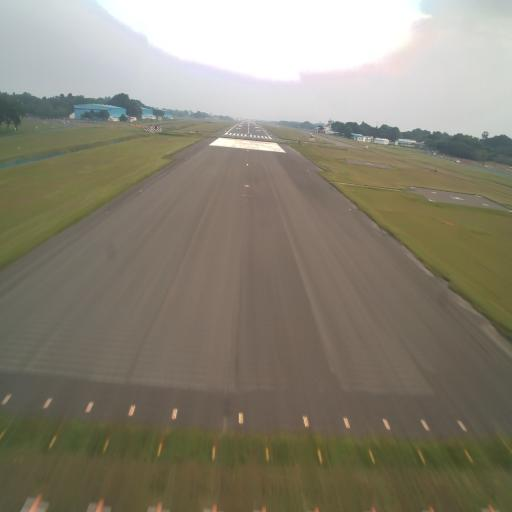on: (379, 410, 394, 434), (82, 395, 96, 420), (454, 414, 468, 435), (42, 390, 54, 414), (416, 415, 430, 432), (343, 412, 352, 438), (128, 400, 139, 420), (170, 406, 181, 426), (302, 411, 312, 433), (0, 392, 12, 409), (238, 408, 245, 432)
